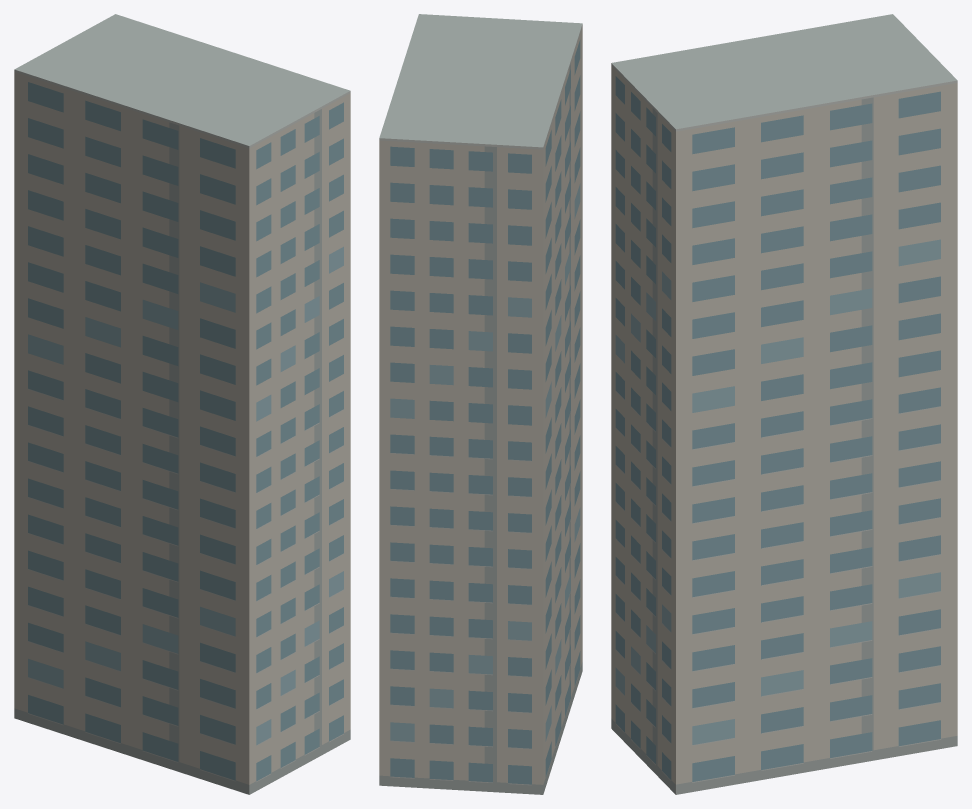
The model's file is residential-d9463a64-c99d-44bf-95f7-e5d146ea7467.glb.
3 views of the same model, side by side, from view 1: azimuth 30°, elevation 25°; view 2: azimuth 150°, elevation 25°; view 3: azimuth 270°, elevation 25° (orthographic). The views are drawn at different scales.
Visible parts, largest first — view 1: residential-d9463a64-c99d-44bf-95f7-e5d146ea7467.tmp; view 2: residential-d9463a64-c99d-44bf-95f7-e5d146ea7467.tmp; view 3: residential-d9463a64-c99d-44bf-95f7-e5d146ea7467.tmp.
Boxes of the visible parts, x1,y1,x2,y2 form: residential-d9463a64-c99d-44bf-95f7-e5d146ea7467.tmp: [14, 14, 350, 794]; residential-d9463a64-c99d-44bf-95f7-e5d146ea7467.tmp: [379, 14, 582, 794]; residential-d9463a64-c99d-44bf-95f7-e5d146ea7467.tmp: [611, 14, 957, 794].
Bounding box in the file's own units: 25.29 × 68 × 32.08.
